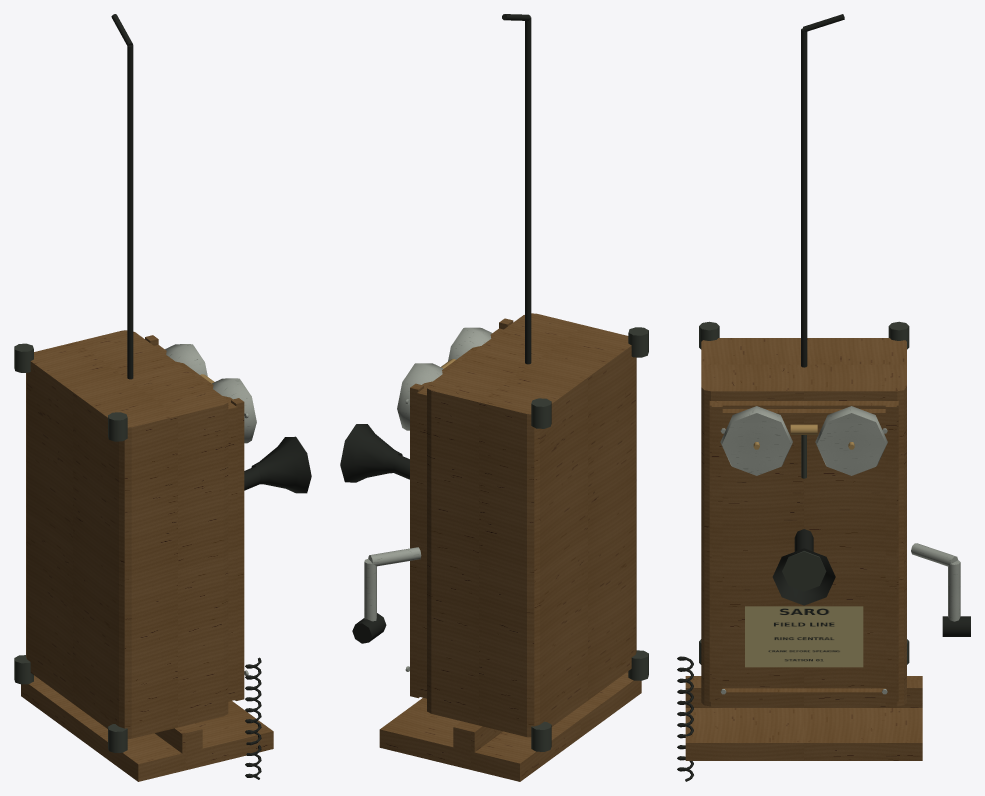
The model's file is SM_FieldKit_FieldPhone_LOD1.fbx.
3 views of the same model, side by side, from view 1: azimuth 30°, elevation 25°; view 2: azimuth 150°, elevation 25°; view 3: azimuth 270°, elevation 25° (orthographic). The views are drawn at different scales.
Parts seen in each view (by area): view 1: SM_FieldKit_FieldPhone_LOD1; view 2: SM_FieldKit_FieldPhone_LOD1; view 3: SM_FieldKit_FieldPhone_LOD1.
Boxes of the visible parts, <box> form: SM_FieldKit_FieldPhone_LOD1: <box>14,14,311,781</box>; SM_FieldKit_FieldPhone_LOD1: <box>340,14,648,781</box>; SM_FieldKit_FieldPhone_LOD1: <box>677,14,970,781</box>.
Bounding box in the file's own units: 0.346 × 0.3718 × 1.03.
